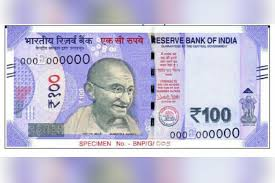hundred: (16, 49, 251, 130)
